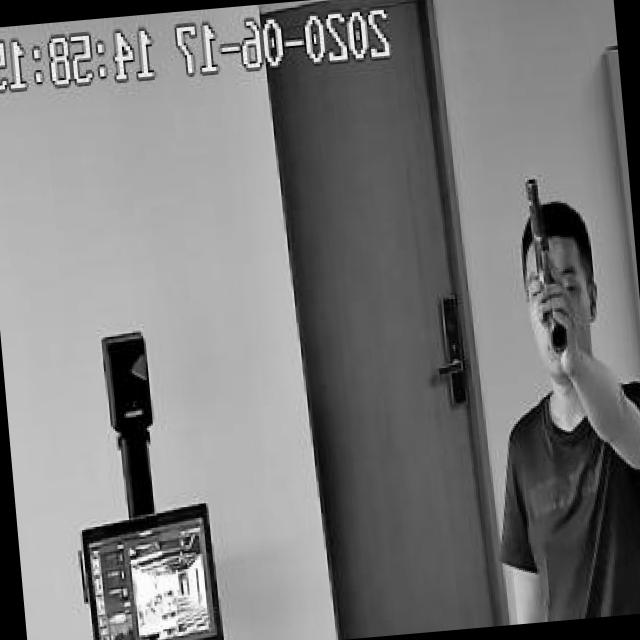Guns: (507, 163, 588, 374)
